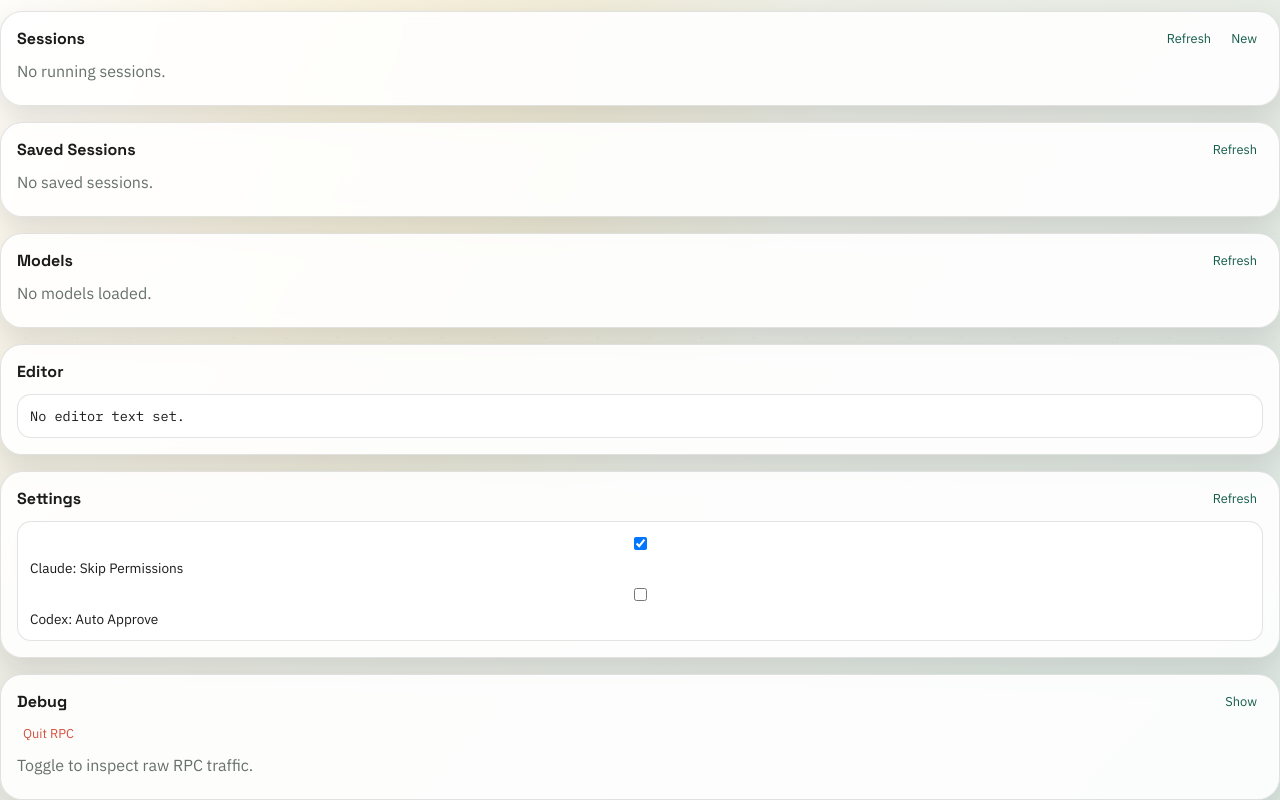
Test: Sidebar › Debug Section › toggles debug panel visibility
The width and height of the screenshot is (1280, 800).
Expected: the text "Toggle to inspect raw RPC traffic." is shown, [17,755,253,775]
Note: Click "Show"
What coordinates should you click on to do the following:
click the button "Show"
I would click on:
 (1241, 702)
Its box is [1219,692,1263,711].
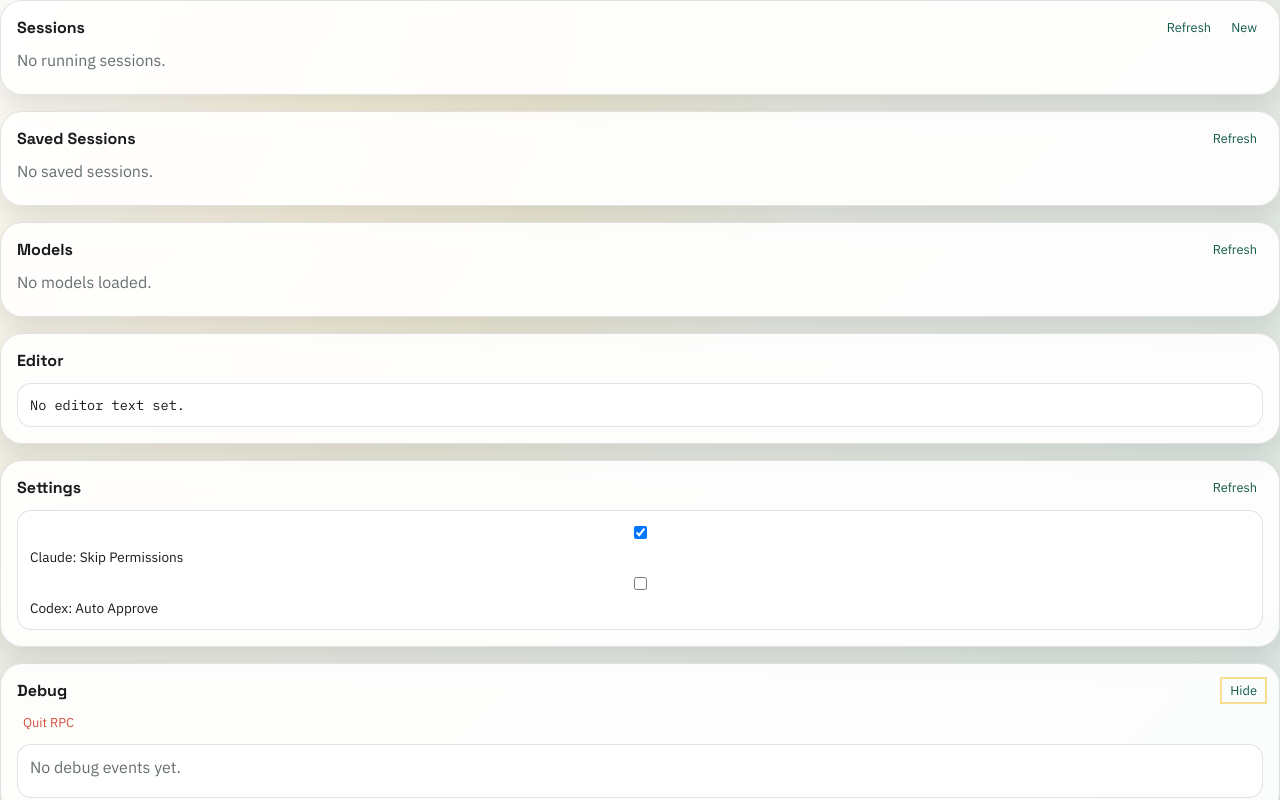
Expected: the text "No debug events yet." is shown, [30,757,181,777]
Expected: the button "Hide" is shown, [1224,681,1263,700]
